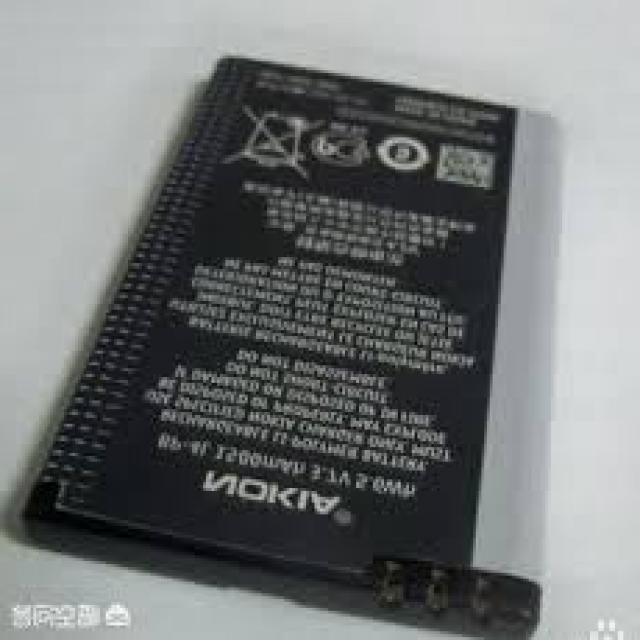battery: (26, 52, 562, 638)
